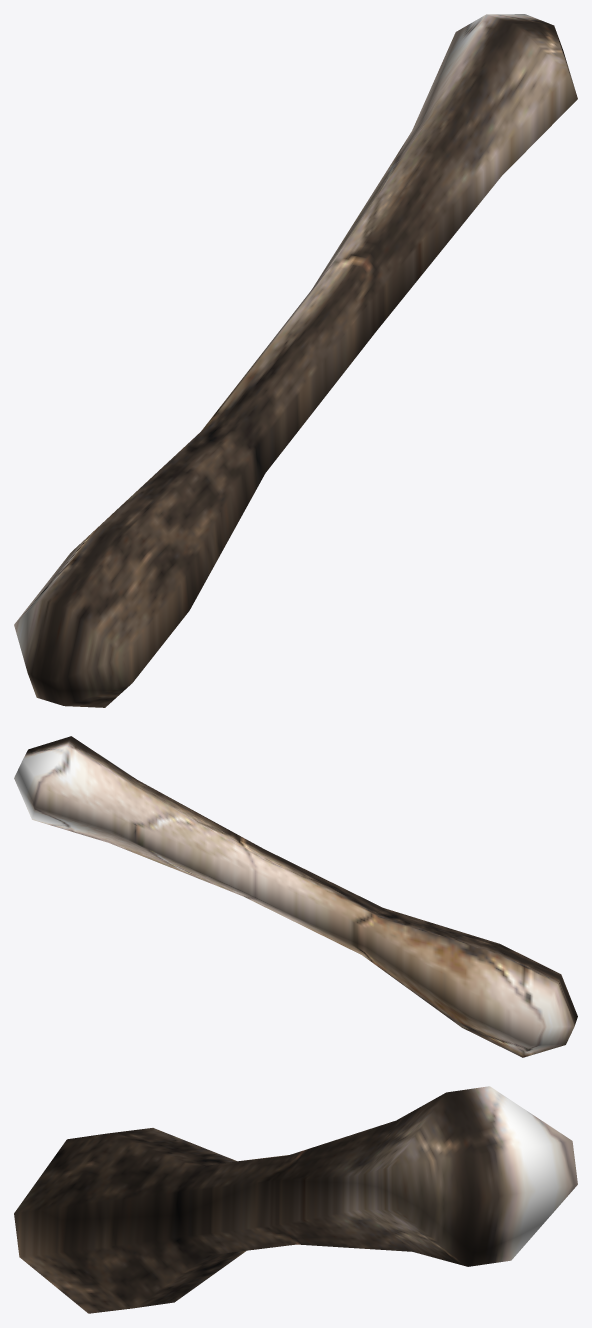
3 renders of one model, top to bottom at view 1: azimuth 30°, elevation 25°; view 2: azimuth 150°, elevation 25°; view 3: azimuth 270°, elevation 25°, orthographic. The views are drawn at different scales.
Visible parts, largest first — view 1: SMDImport; view 2: SMDImport; view 3: SMDImport.
Boxes of the visible parts, bbox=[...] form: SMDImport: bbox=[14, 14, 577, 707]; SMDImport: bbox=[14, 736, 577, 1057]; SMDImport: bbox=[14, 1086, 577, 1313].
Size of the model in its own units: 265 by 163 by 149.
